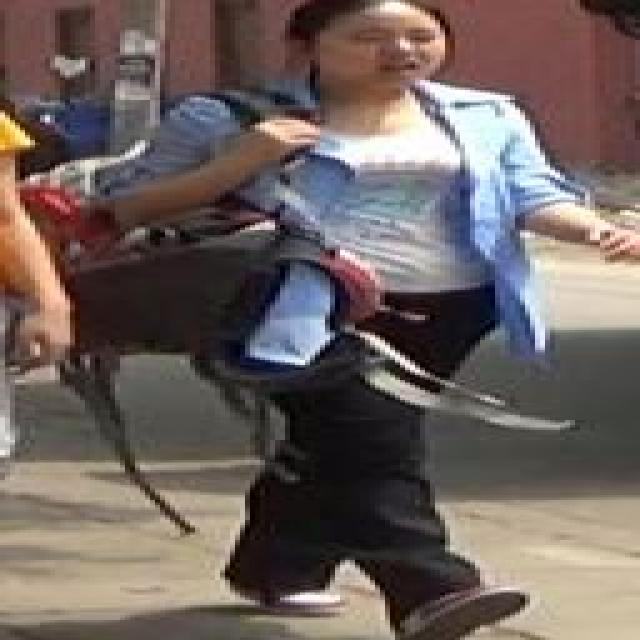adult: (90, 0, 615, 632)
